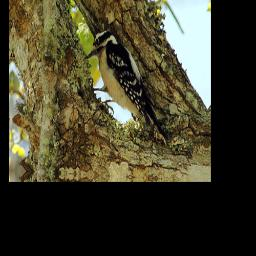Woodpecker: (82, 23, 173, 144)
